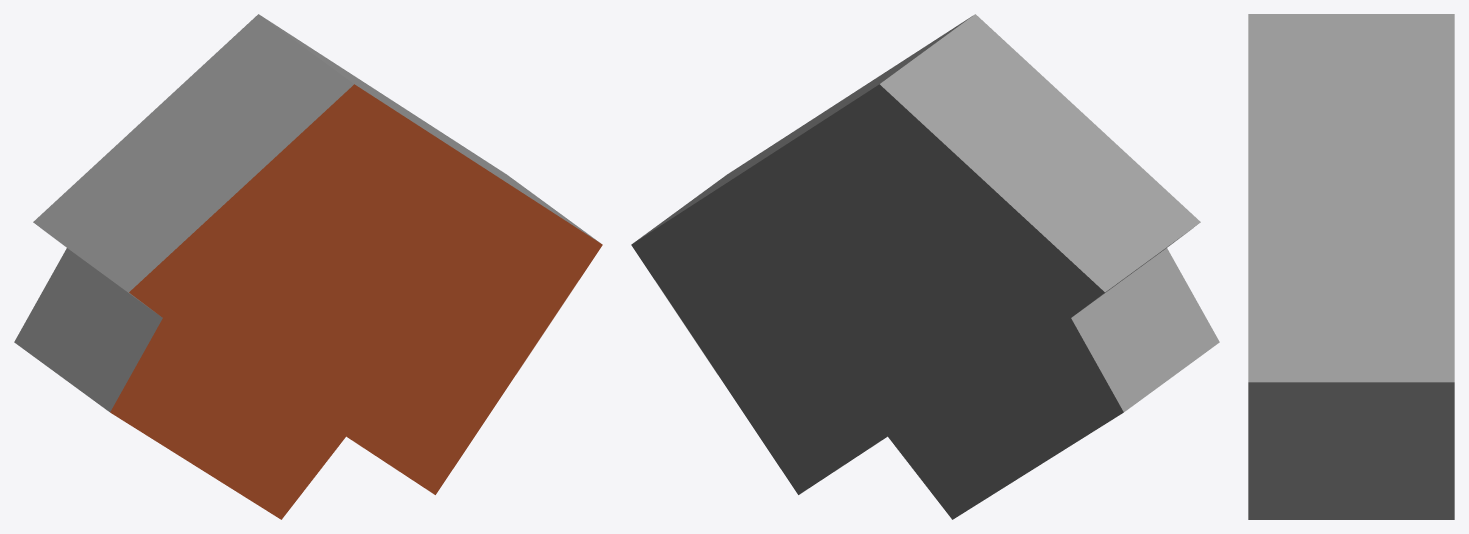
The model's file is construction_3814_assumed_A_Casa_h6m.obj.
The picture shows the model from 3 angles, left to right: view 1: azimuth 30°, elevation 25°; view 2: azimuth 150°, elevation 25°; view 3: azimuth 270°, elevation 25°; orthographic projection. The views are drawn at different scales.
Visible parts, largest first — view 1: construction_3814_assumed_A_Casa; view 2: construction_3814_assumed_A_Casa; view 3: construction_3814_assumed_A_Casa.
Part boxes in pixels (box(x1,y1,x2,y2)): construction_3814_assumed_A_Casa: box(14, 14, 602, 519); construction_3814_assumed_A_Casa: box(631, 14, 1219, 519); construction_3814_assumed_A_Casa: box(1248, 14, 1454, 519).
Size of the model in its own units: 17.79 by 14.87 by 6.
